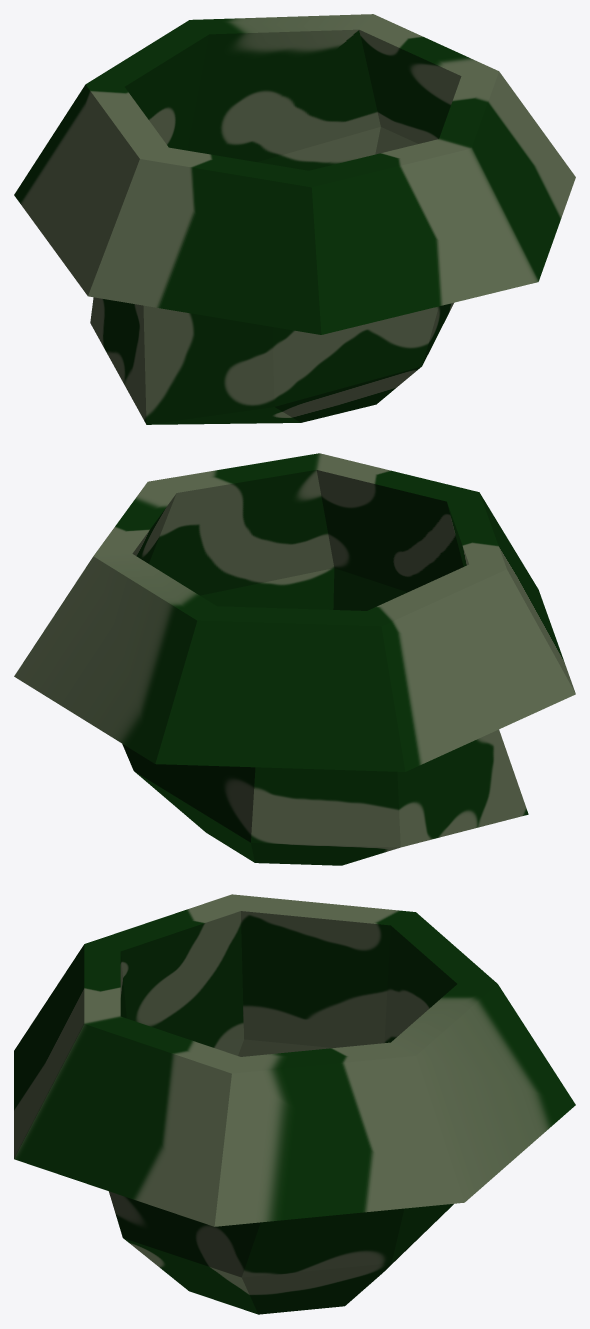
The model's file is SacoLixoAberto.glb.
3 views of the same model, one above another, from view 1: azimuth 30°, elevation 25°; view 2: azimuth 150°, elevation 25°; view 3: azimuth 270°, elevation 25° (orthographic). The views are drawn at different scales.
Visible parts, largest first — view 1: Sphere; view 2: Sphere; view 3: Sphere.
Part boxes in pixels (x1,y1,x2,y2): Sphere: [14, 14, 575, 424]; Sphere: [14, 453, 575, 865]; Sphere: [14, 894, 575, 1314].
Size of the model in its own units: 2.82 by 1.56 by 2.75.
Materials: 1 (1 with a texture image).
